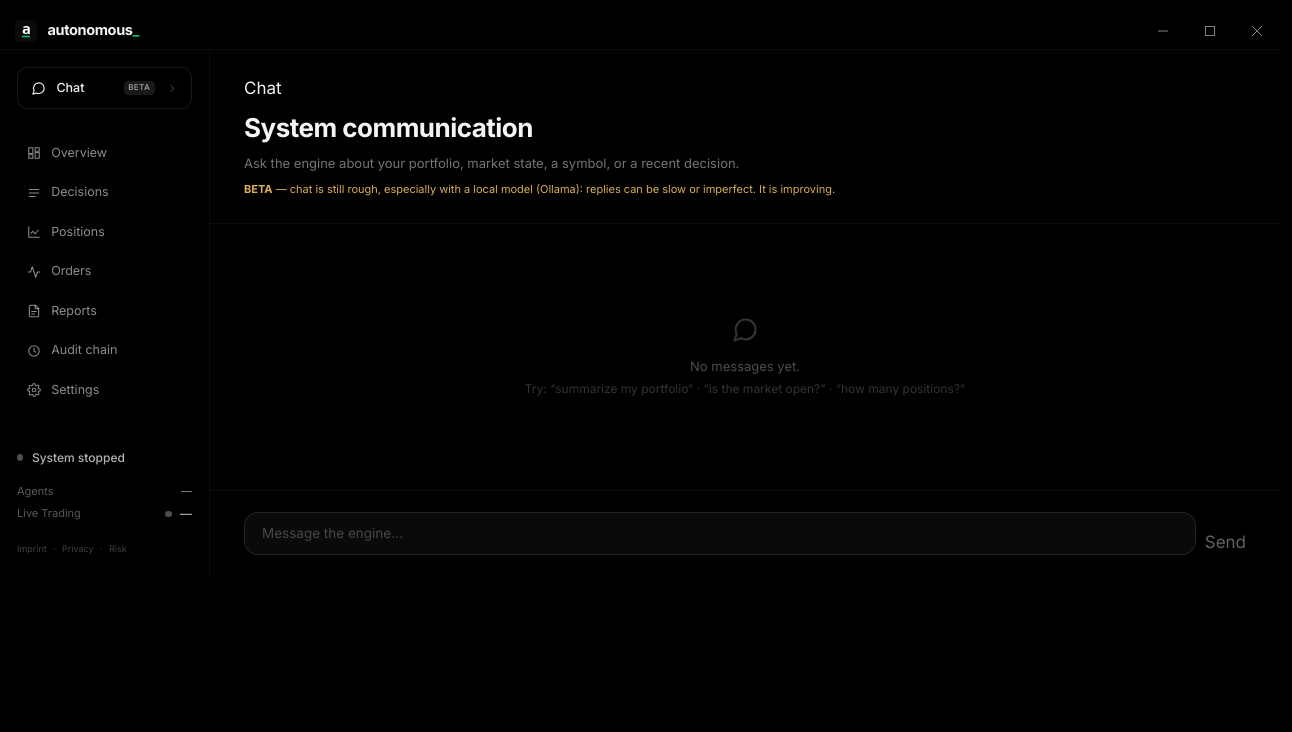
Test: Journey · Support (ask the engine) › a question gets echoed and answered by the engine
In the text box with placeholder "Message the engine…": point(720, 534) [244,512,1196,555], type "is the market open?"
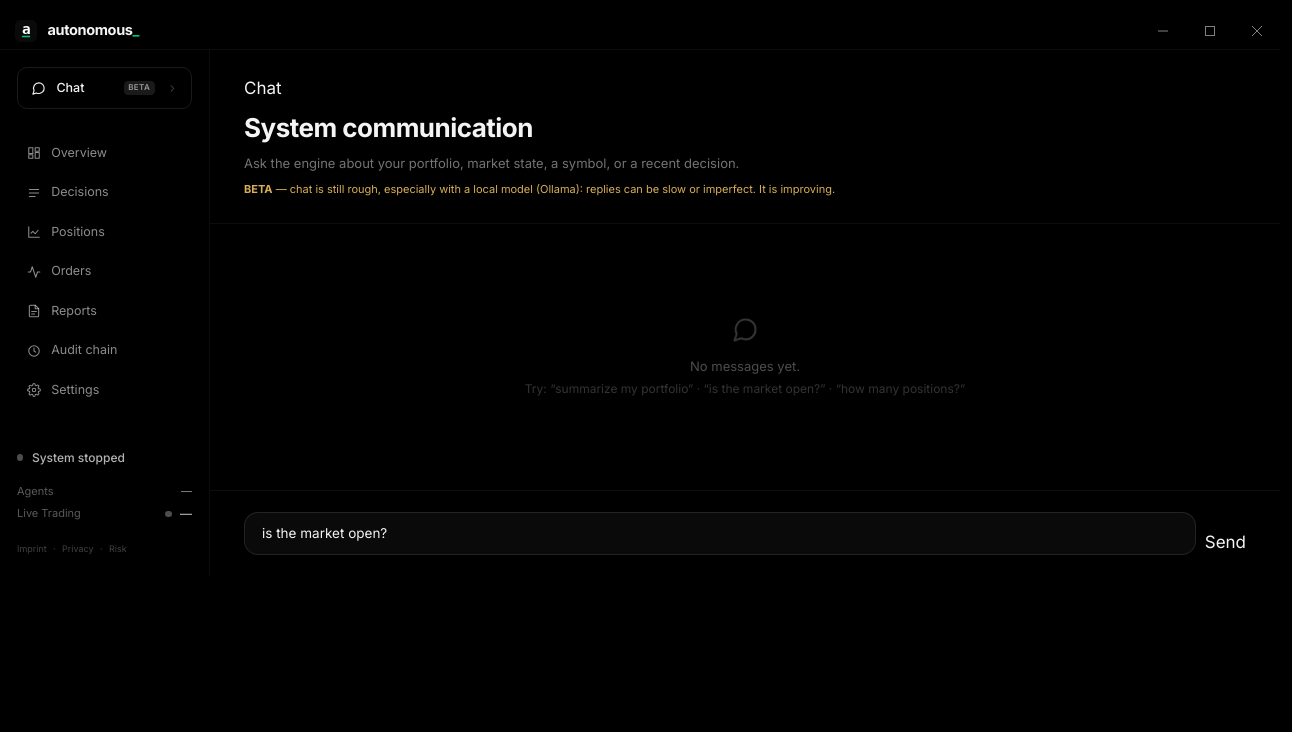
Click the button "Send": point(1225, 543) [1205,530,1246,555]
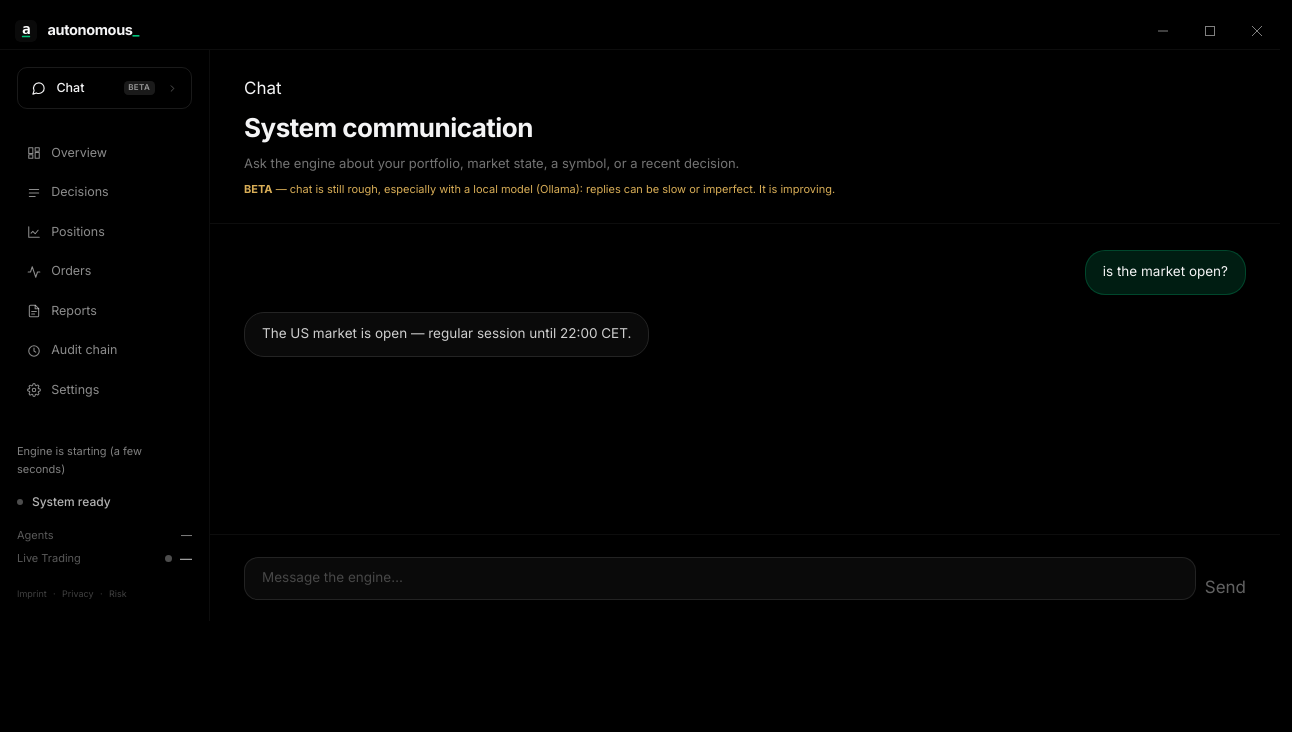
Expected: the text "is the market open?" is shown, [1085,250,1246,295]
Expected: the text "The US market is open — regular session until 22:00 CET." is shown, [244,312,649,357]
